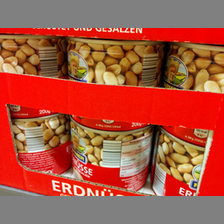nuts: (68, 117, 153, 194), (65, 38, 162, 86), (12, 114, 72, 174), (150, 130, 203, 196), (163, 43, 224, 91), (1, 34, 65, 78)
